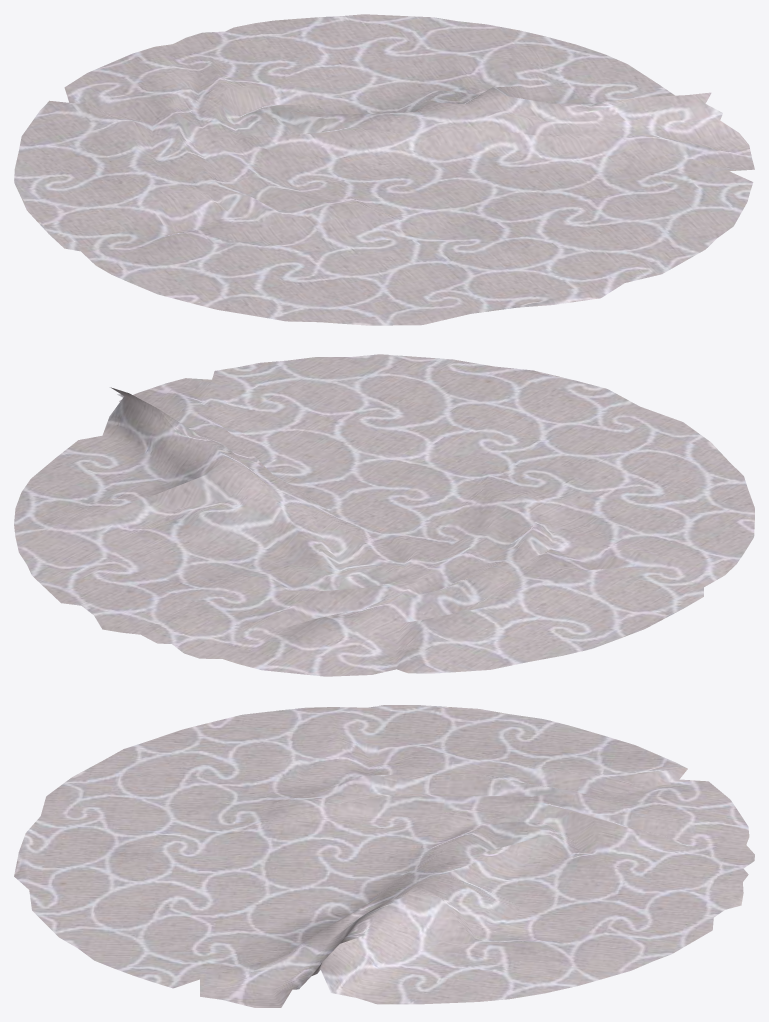
File: Carpet0007.obj
The picture shows the model from 3 angles, top to bottom: view 1: azimuth 30°, elevation 25°; view 2: azimuth 150°, elevation 25°; view 3: azimuth 270°, elevation 25°; orthographic projection. The views are drawn at different scales.
Bounding box in the file's own units: 2.08 × 0.118 × 2.14.
Materials: 1 (1 with a texture image).
